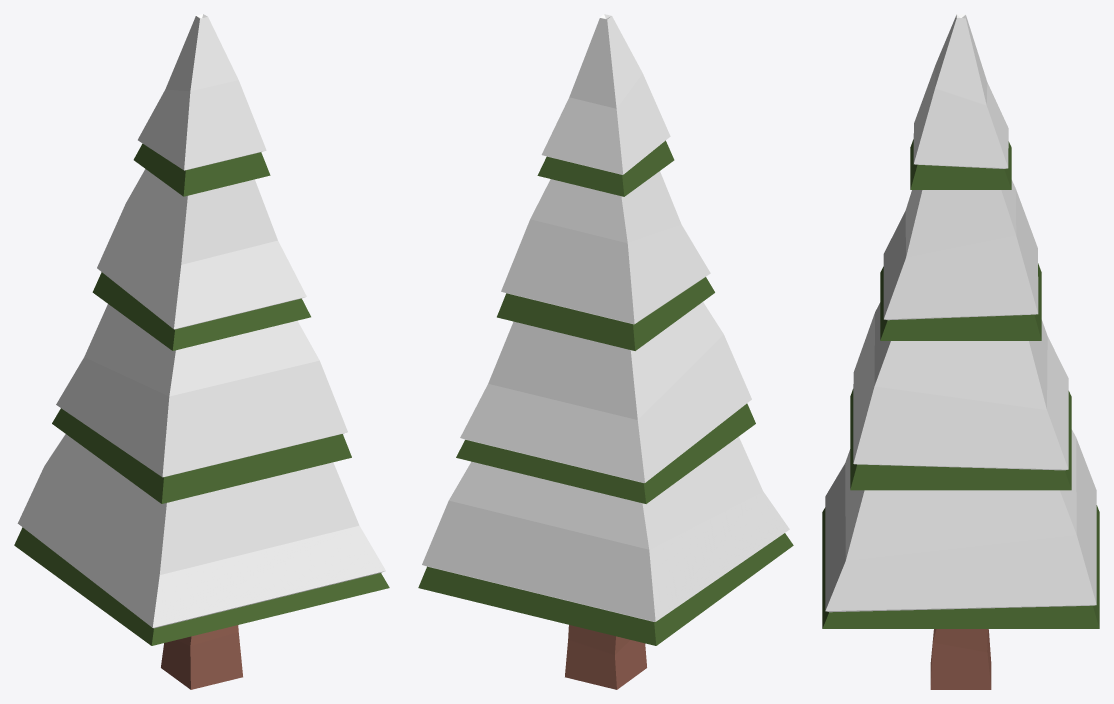
Rendered from tree3.glb.
The picture shows the model from 3 angles, left to right: view 1: azimuth 30°, elevation 25°; view 2: azimuth 150°, elevation 25°; view 3: azimuth 270°, elevation 25°; orthographic projection.
Parts seen in each view (by area): view 1: Tree 3_0.001; view 2: Tree 3_0.001; view 3: Tree 3_0.001.
Boxes of the visible parts, x1,y1,x2,y2 form: Tree 3_0.001: (14, 14, 389, 689); Tree 3_0.001: (418, 14, 793, 689); Tree 3_0.001: (822, 14, 1099, 689).
Size of what is drawn, in the model's own units: 3.65 by 9.6 by 3.65.
1 material, 1 textured.
